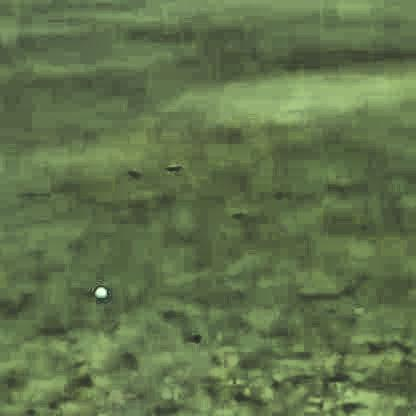golfball: (90, 284, 108, 300)
